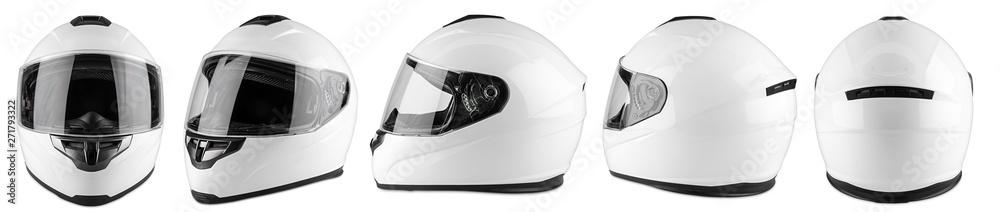helmet: (368, 13, 588, 195), (601, 14, 799, 199), (182, 13, 360, 206), (812, 15, 975, 205), (16, 13, 165, 207)
